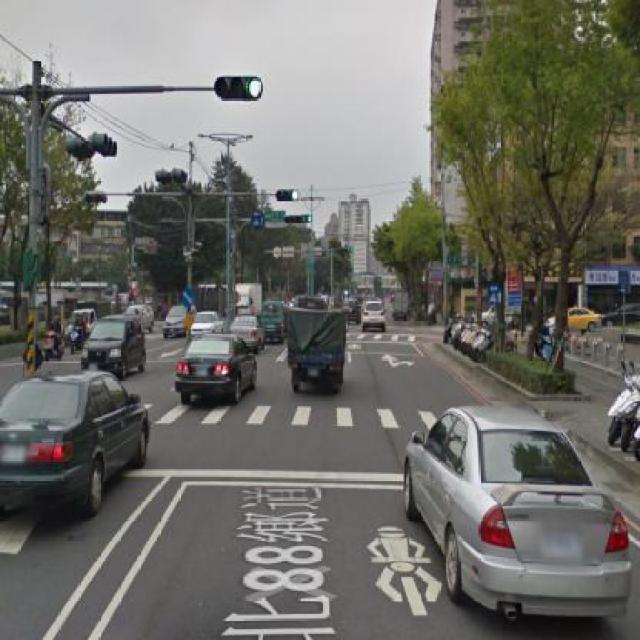right_turn: (179, 285, 198, 310)
